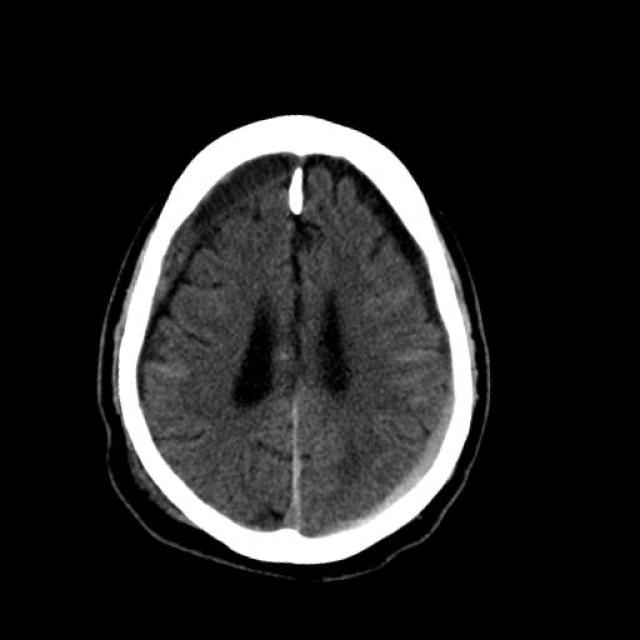Subdural: (332, 342, 498, 572), (236, 382, 358, 576)
